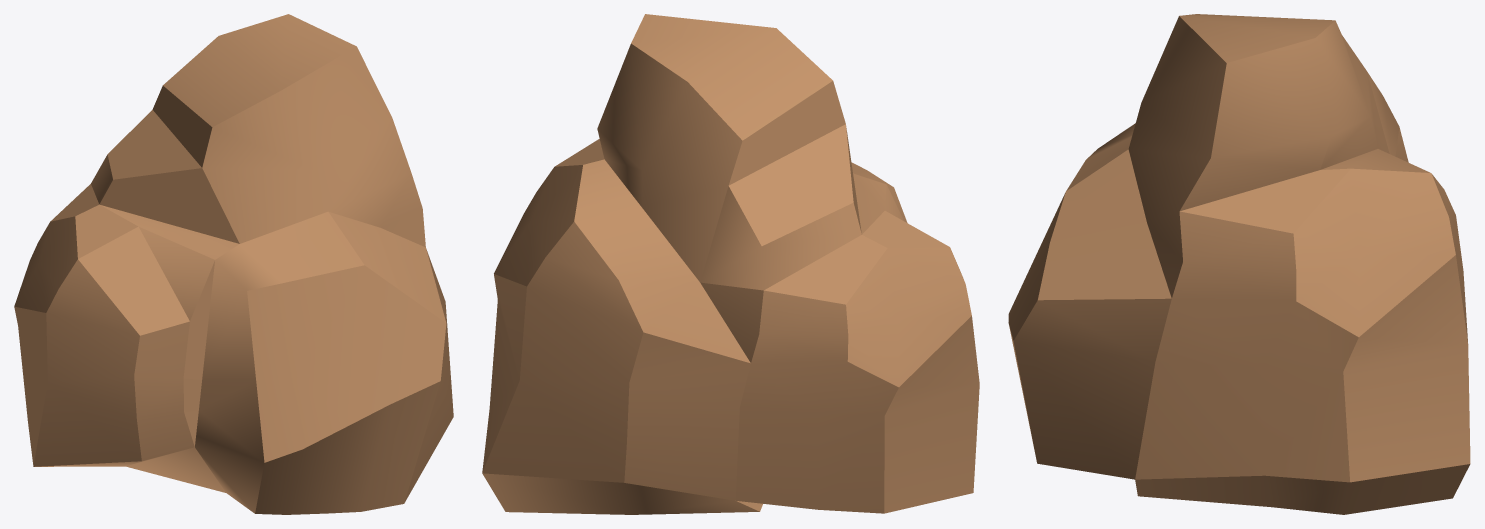
The model's file is Rock-0.glb.
3 views of the same model, side by side, from view 1: azimuth 30°, elevation 25°; view 2: azimuth 150°, elevation 25°; view 3: azimuth 270°, elevation 25° (orthographic). The views are drawn at different scales.
Parts seen in each view (by area): view 1: Rock_0; view 2: Rock_0; view 3: Rock_0.
Part boxes in pixels (x1,y1,x2,y2): Rock_0: [14, 14, 453, 514]; Rock_0: [482, 14, 979, 514]; Rock_0: [1008, 14, 1470, 514].
Bounding box in the file's own units: 2.74 × 2.71 × 2.52.
